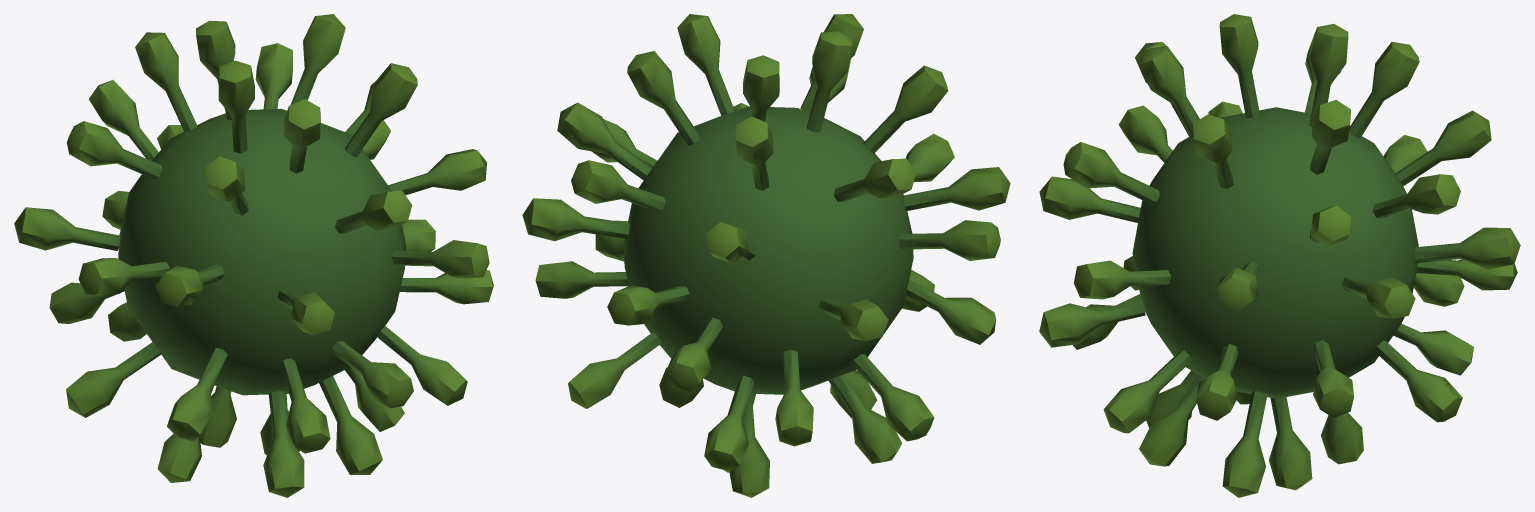
The model's file is microscopic-viruses-coronavirus_v1.glb.
The picture shows the model from 3 angles, left to right: view 1: azimuth 30°, elevation 25°; view 2: azimuth 150°, elevation 25°; view 3: azimuth 270°, elevation 25°; orthographic projection.
Parts seen in each view (by area): view 1: Coronavirus_v1; view 2: Coronavirus_v1; view 3: Coronavirus_v1.
Part boxes in pixels (box(x1,y1,x2,y2)): Coronavirus_v1: box(14, 14, 493, 497); Coronavirus_v1: box(522, 14, 1010, 497); Coronavirus_v1: box(1039, 14, 1520, 497).
Size of the model in its own units: 0.1172 by 0.12 by 0.1191.
